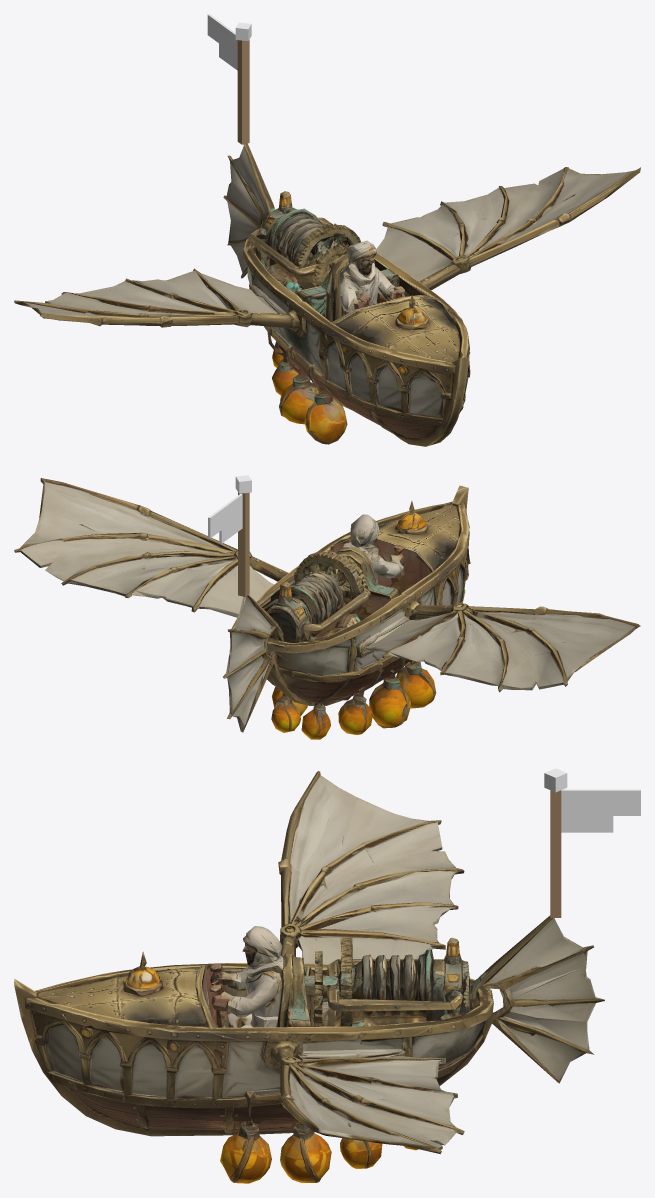
Rendered from dune_ornithopter.glb.
The picture shows the model from 3 angles, top to bottom: view 1: azimuth 30°, elevation 25°; view 2: azimuth 150°, elevation 25°; view 3: azimuth 270°, elevation 25°; orthographic projection. The views are drawn at different scales.
Parts seen in each view (by area): view 1: dune_ornithopter, Team_pennant; view 2: dune_ornithopter, Team_pennant; view 3: dune_ornithopter, Team_pennant.
Boxes of the visible parts, <box> form: dune_ornithopter: <box>14,143,640,446</box>; Team_pennant: <box>207,14,251,144</box>; dune_ornithopter: <box>14,478,640,739</box>; Team_pennant: <box>208,475,251,596</box>; dune_ornithopter: <box>14,771,604,1183</box>; Team_pennant: <box>544,768,640,917</box>.
Bounding box in the file's own units: 1.9 × 0.9397 × 1.4.
Materials: 3 (1 with a texture image).
